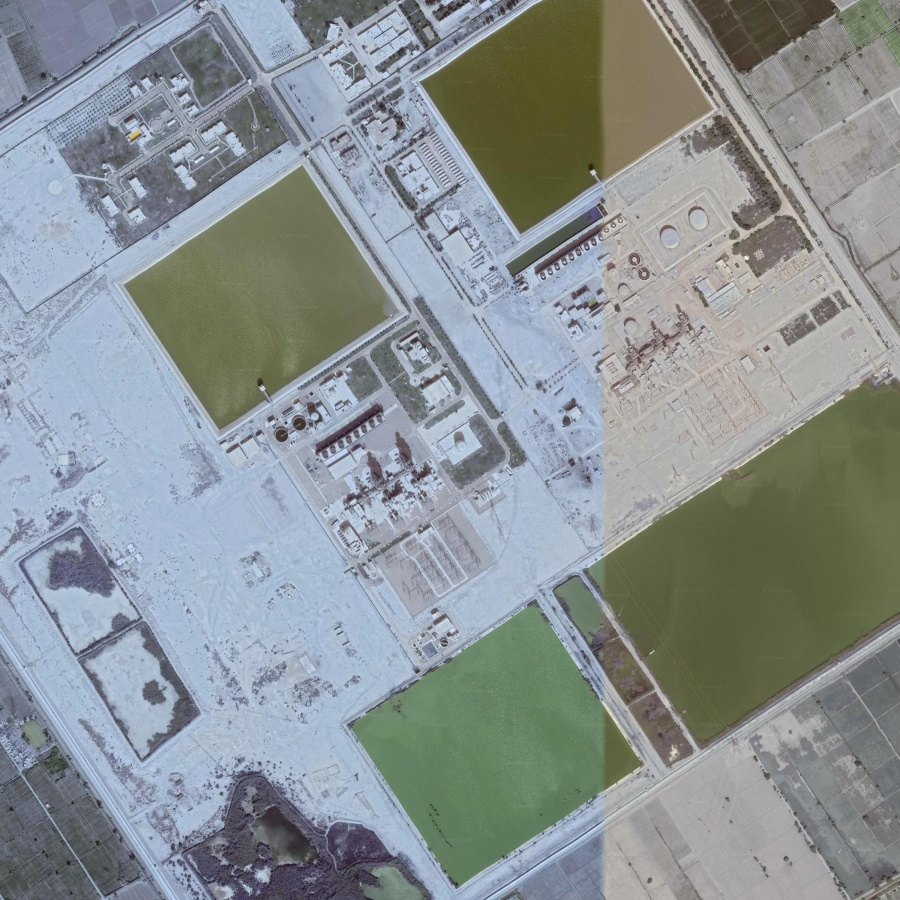PowerPlant: (271, 328, 513, 649), (553, 207, 748, 400)
